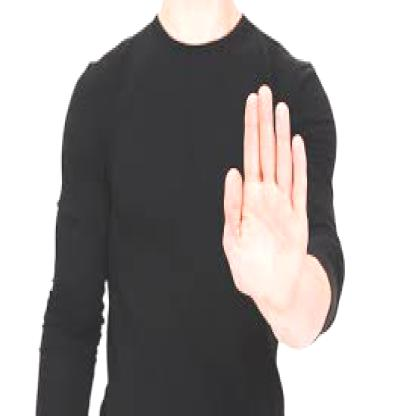Stop: (215, 84, 321, 300)
